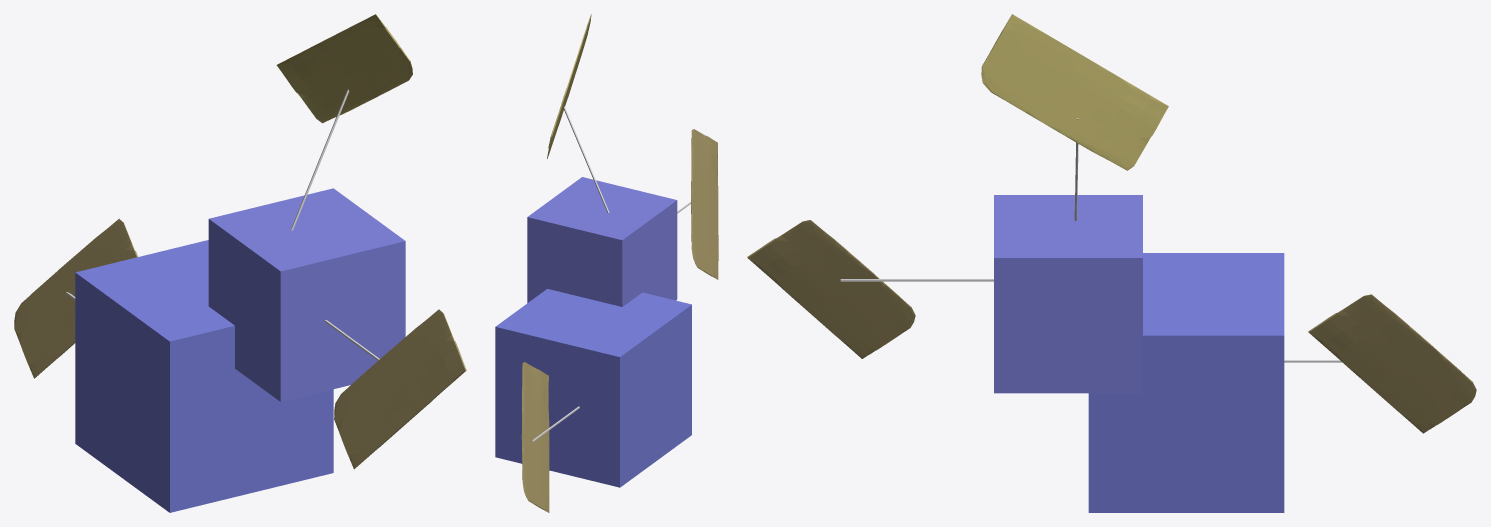
The model's file is satellite13.glb.
The picture shows the model from 3 angles, left to right: view 1: azimuth 30°, elevation 25°; view 2: azimuth 150°, elevation 25°; view 3: azimuth 270°, elevation 25°; orthographic projection. The views are drawn at different scales.
Parts seen in each view (by area): view 1: Cube.004, Cube.005, Cube.007, Cube.002, Cube.003; view 2: Cube.004, Cube.005, Cube.007, Cube.003, Cube.002, Cube.006; view 3: Cube.004, Cube.005, Cube.002, Cube.003, Cube.007.
Part boxes in pixels (bbox=[...]): Cube.004: bbox=[75, 240, 333, 512]; Cube.005: bbox=[208, 188, 405, 401]; Cube.007: bbox=[334, 309, 466, 469]; Cube.002: bbox=[276, 14, 412, 123]; Cube.003: bbox=[14, 219, 137, 378]; Cube.004: bbox=[495, 289, 691, 487]; Cube.005: bbox=[527, 177, 677, 306]; Cube.007: bbox=[691, 129, 718, 279]; Cube.003: bbox=[521, 362, 549, 512]; Cube.002: bbox=[547, 14, 591, 158]; Cube.006: bbox=[564, 106, 609, 212]; Cube.004: bbox=[1088, 253, 1284, 512]; Cube.005: bbox=[994, 195, 1142, 393]; Cube.002: bbox=[981, 14, 1168, 170]; Cube.003: bbox=[1308, 294, 1476, 433]; Cube.007: bbox=[747, 220, 915, 358].
Size of the model in its own units: 1.49 by 3.6 by 4.74.
